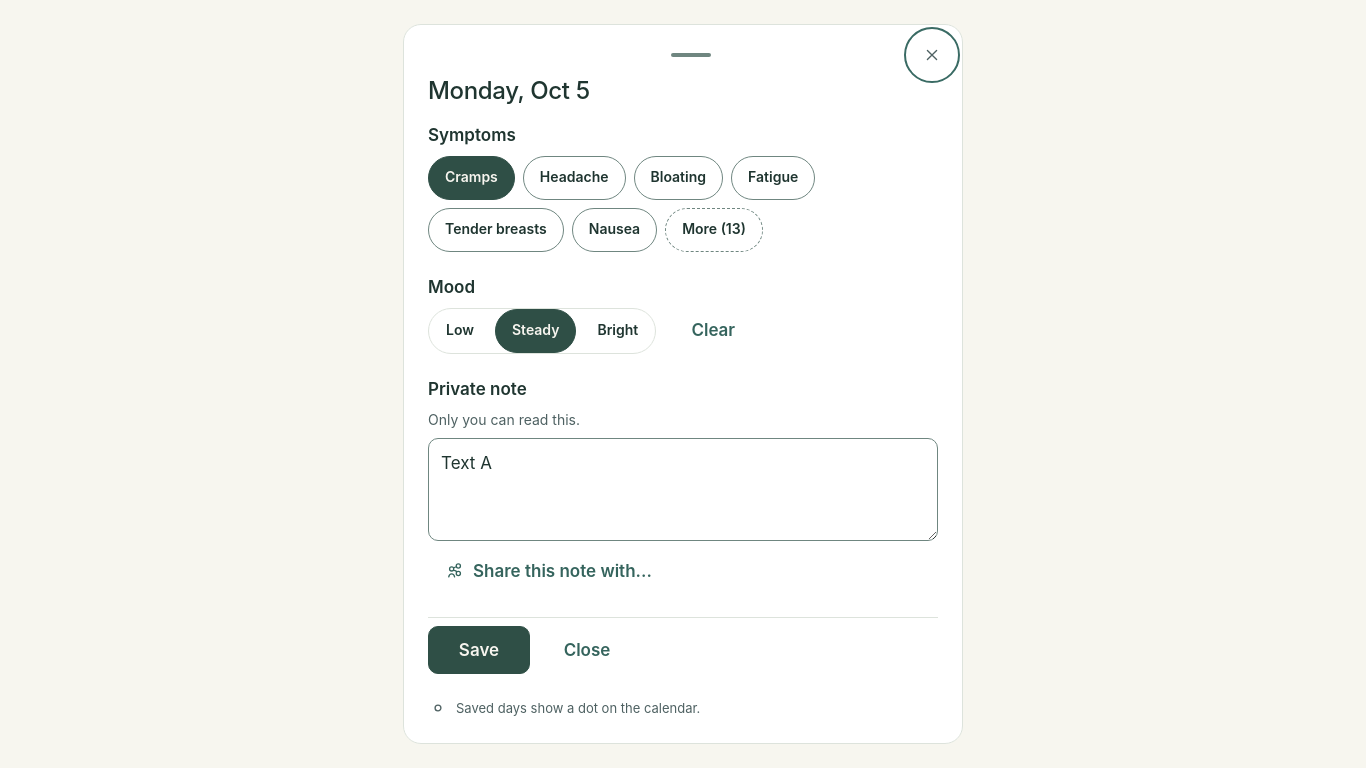
Test: DayLogSheet › retries a share whose answer was lost with the same key, so the stored answer completes it
This screenshot has width=1366, height=768.
(page scrolled)
Click the button "Share this note with..." at (548, 571), box [428,549,669,593]
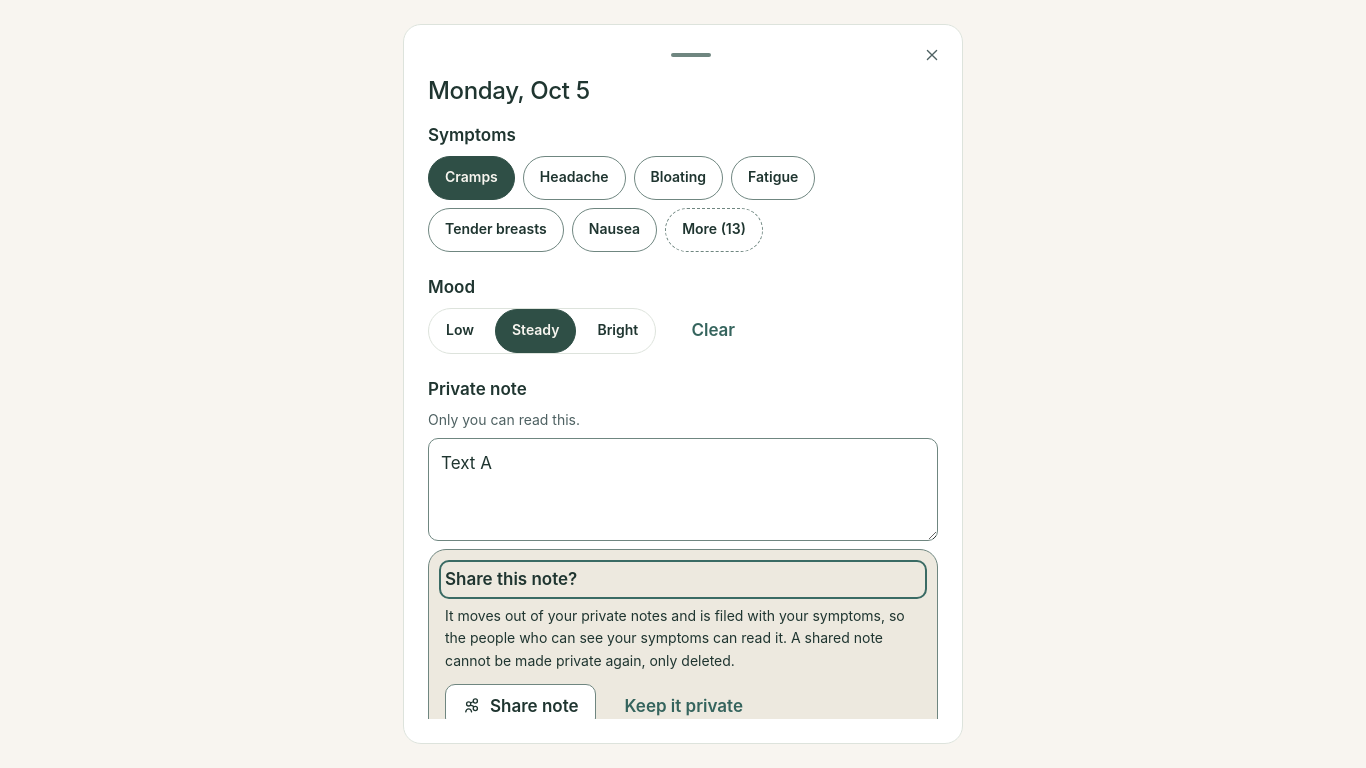
Click the button "Share note" at (520, 706), box [445,684,596,728]
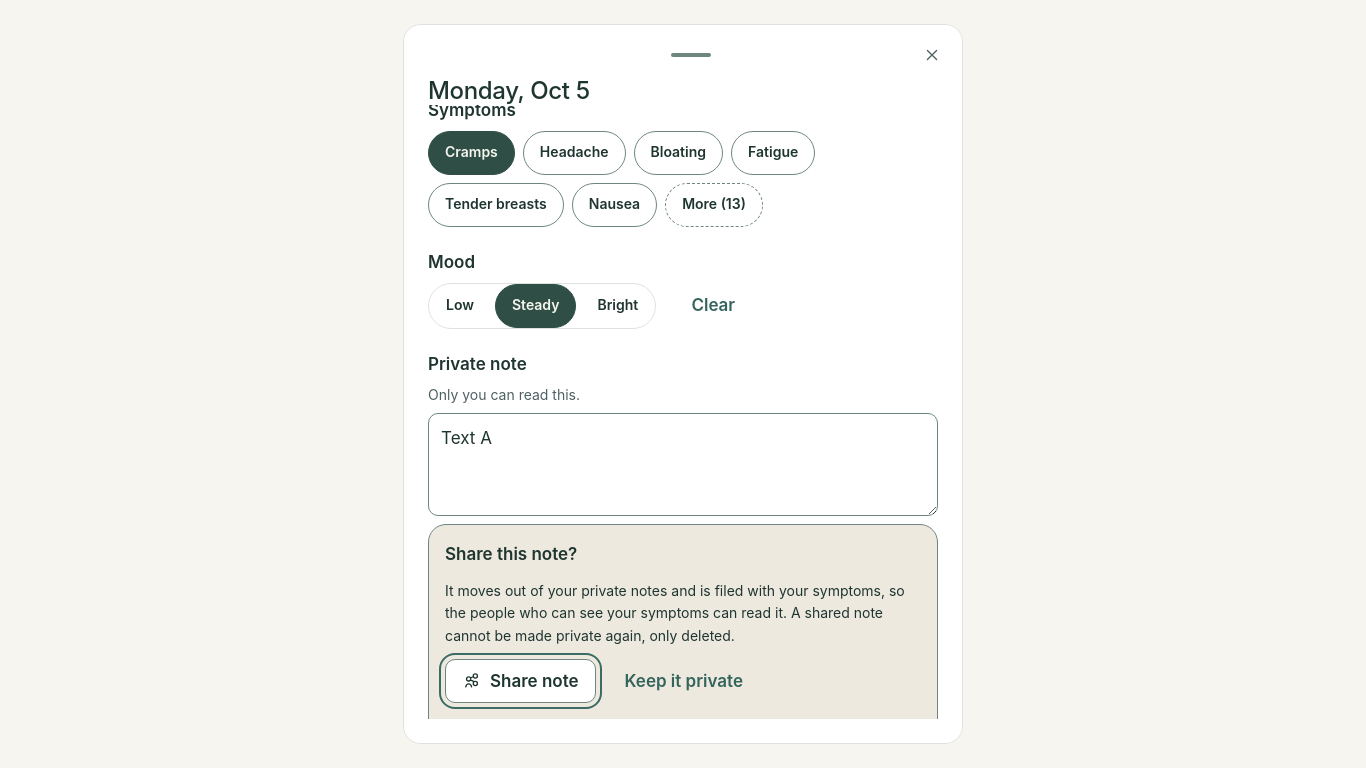
Click the button "Share note" at (520, 681), box [445,659,596,703]
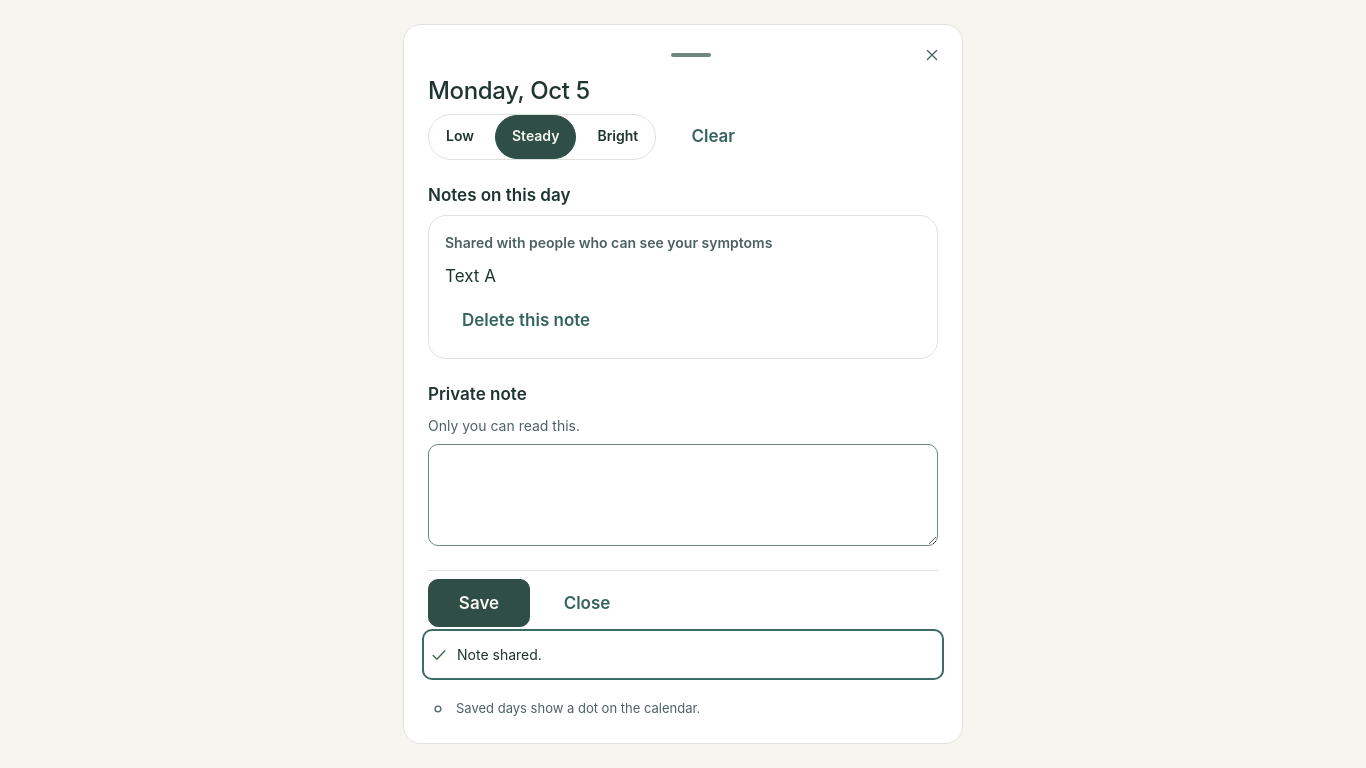
Expected: the text "Note shared." is shown, [457,644,542,665]
Expected: the text "Text A" is shown, [445,266,496,286]
Expected: the text box labelled "Private note" is empty, [428,444,938,546]
